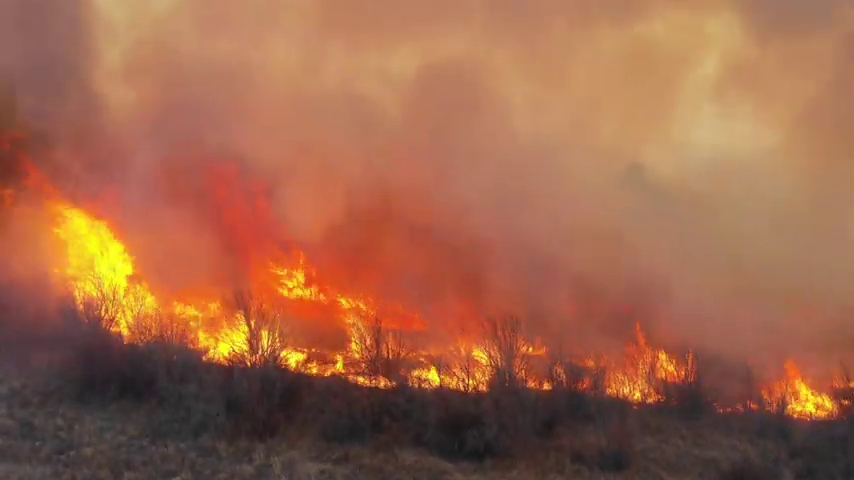forest_fire: (43, 189, 694, 402), (761, 362, 837, 417), (719, 405, 727, 408)
